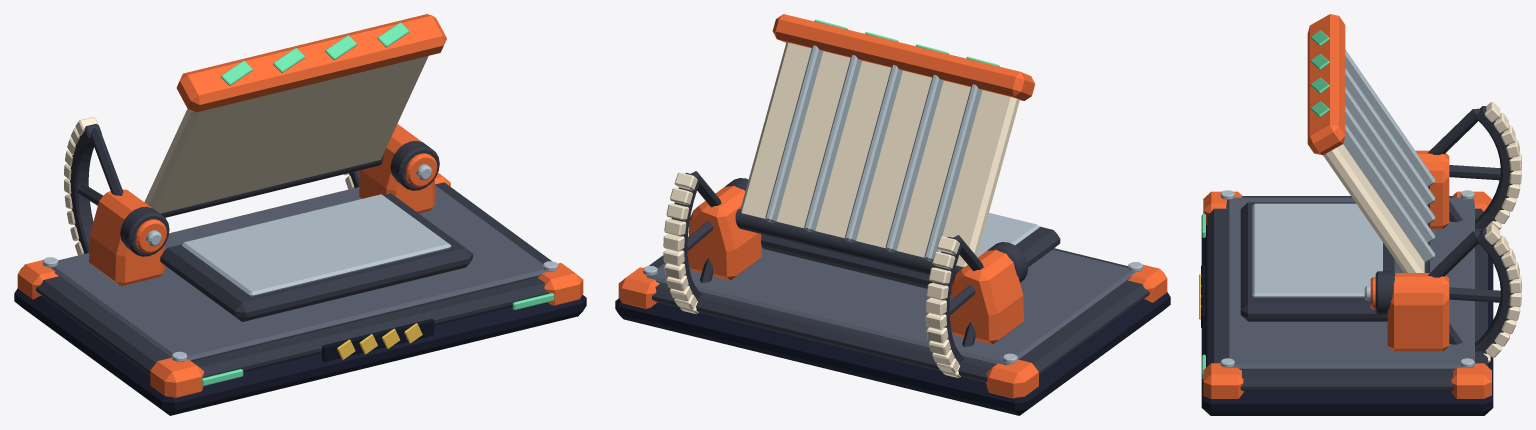
Rendered from DrawbridgeCrusher.fbx.
3 views of the same model, side by side, from view 1: azimuth 30°, elevation 25°; view 2: azimuth 150°, elevation 25°; view 3: azimuth 270°, elevation 25° (orthographic). The views are drawn at different scales.
Visible parts, largest first — view 1: Frame, Bridge; view 2: Bridge, Frame; view 3: Frame, Bridge.
Part boxes in pixels (x1,y1,x2,y2): Frame: (14, 124, 586, 415); Bridge: (64, 14, 446, 255); Bridge: (663, 14, 1035, 378); Frame: (615, 178, 1170, 415); Frame: (1199, 150, 1493, 415); Bridge: (1307, 14, 1521, 363).
Size of the model in its own units: 456 by 282 by 323.
1 material, 1 textured.
